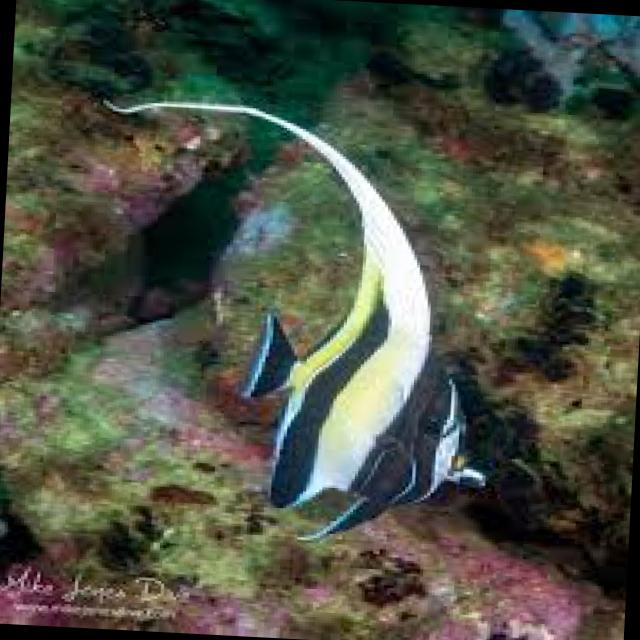MorishIdol: (75, 88, 508, 552)
